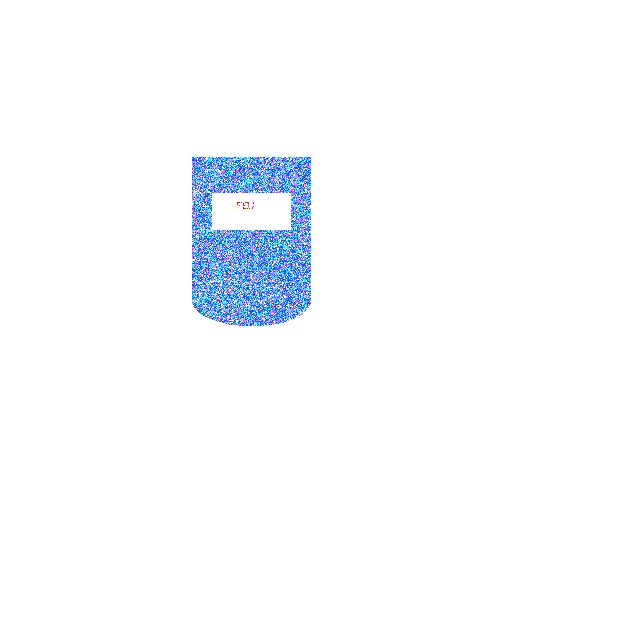Extincteur: (132, 156, 370, 301)
